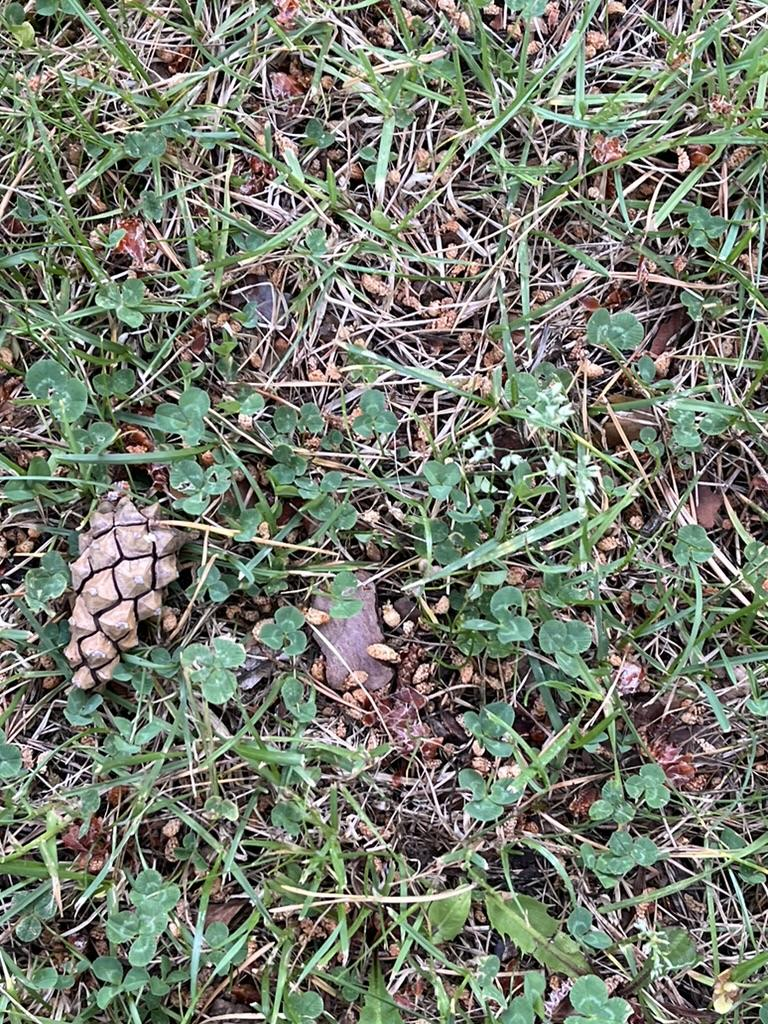pine: (58, 473, 194, 700)
